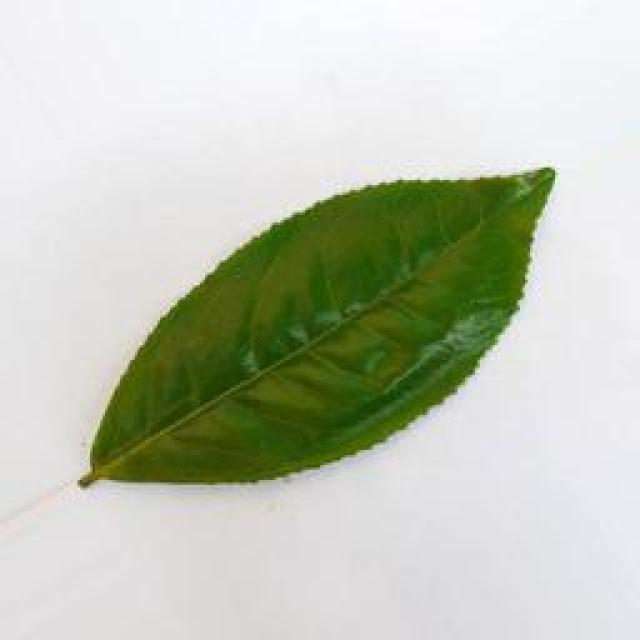Healthy: (76, 166, 565, 497)
